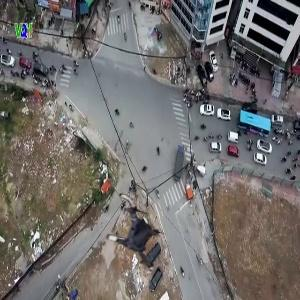drone: (96, 194, 179, 277)
